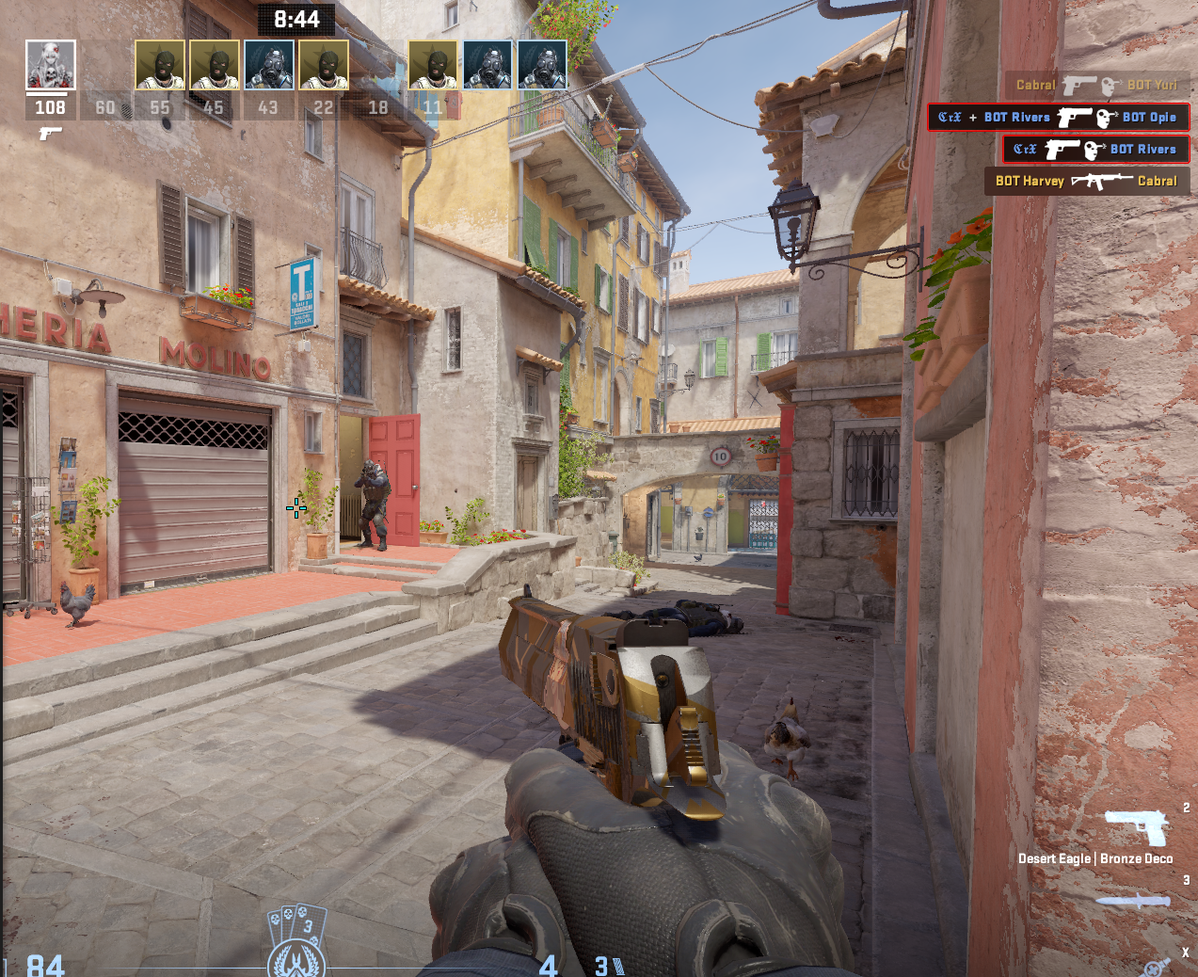CT: (354, 460, 391, 552)
